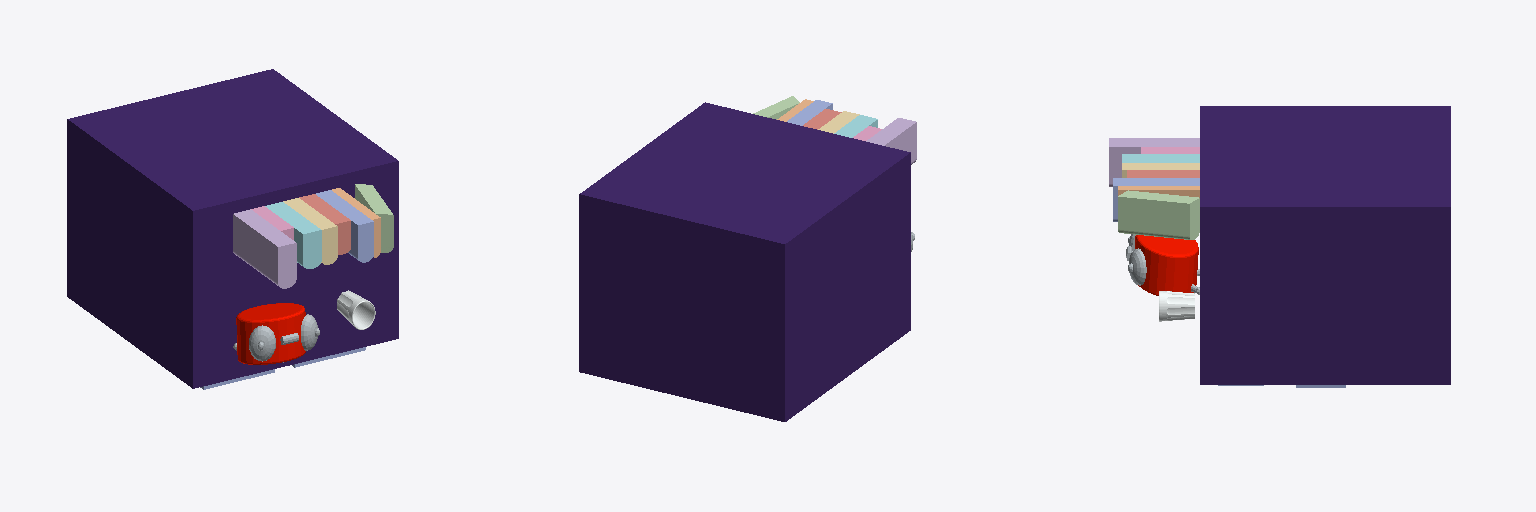
Rendered from tinker.obj.
3 views of the same model, side by side, from view 1: azimuth 30°, elevation 25°; view 2: azimuth 150°, elevation 25°; view 3: azimuth 270°, elevation 25° (orthographic).
Parts seen in each view (by area): view 1: obj_0; view 2: obj_0; view 3: obj_0.
Boxes of the visible parts, <box> form: obj_0: <box>67,69,398,389</box>; obj_0: <box>579,96,916,421</box>; obj_0: <box>1109,106,1450,387</box>.
Bounding box in the file's own units: 52 × 48 × 75.